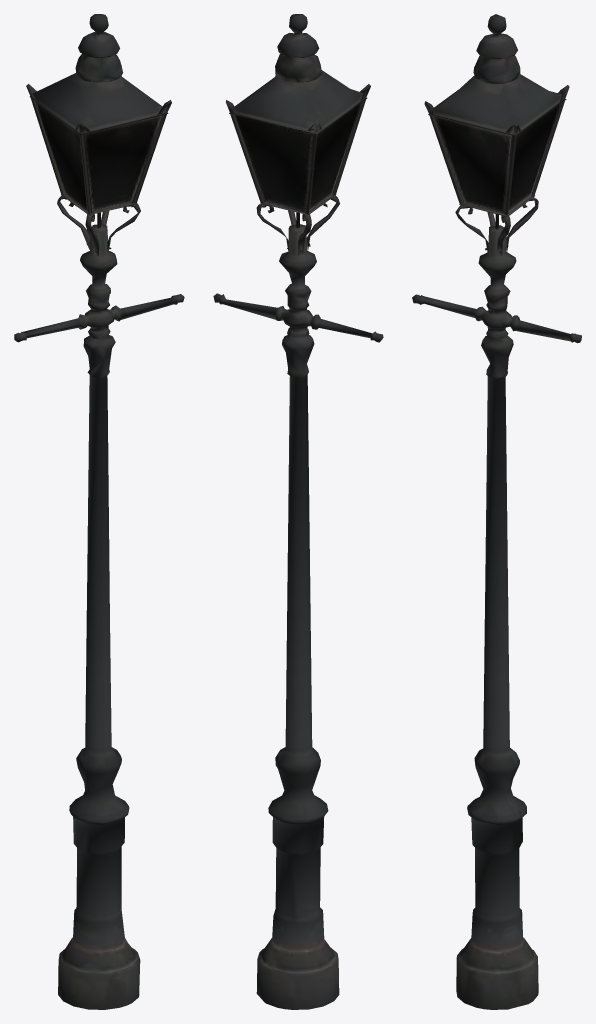
Rendered from lamp.glb.
3 views of the same model, side by side, from view 1: azimuth 30°, elevation 25°; view 2: azimuth 150°, elevation 25°; view 3: azimuth 330°, elevation 25° (orthographic).
Parts seen in each view (by area): view 1: street_lamp_01; view 2: street_lamp_01; view 3: street_lamp_01.
Boxes of the visible parts, x1,y1,x2,y2 form: street_lamp_01: (14,14,184,1009); street_lamp_01: (213,14,383,1009); street_lamp_01: (412,14,581,1009).
Size of the model in its own units: 0.7031 by 3.87 by 0.3855.
1 material, 1 textured.
